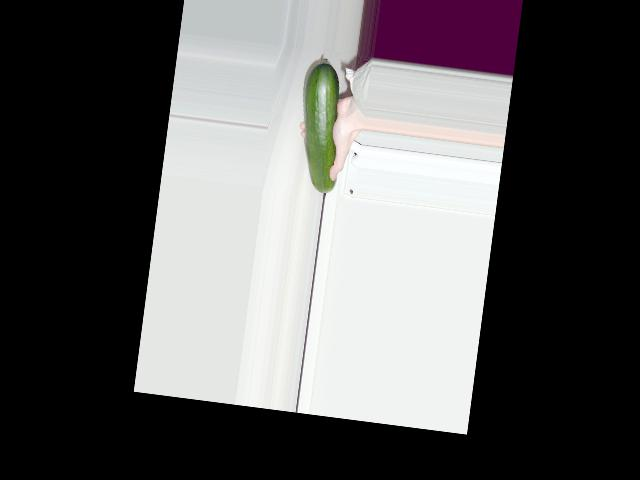cucumber: (290, 56, 351, 194)
